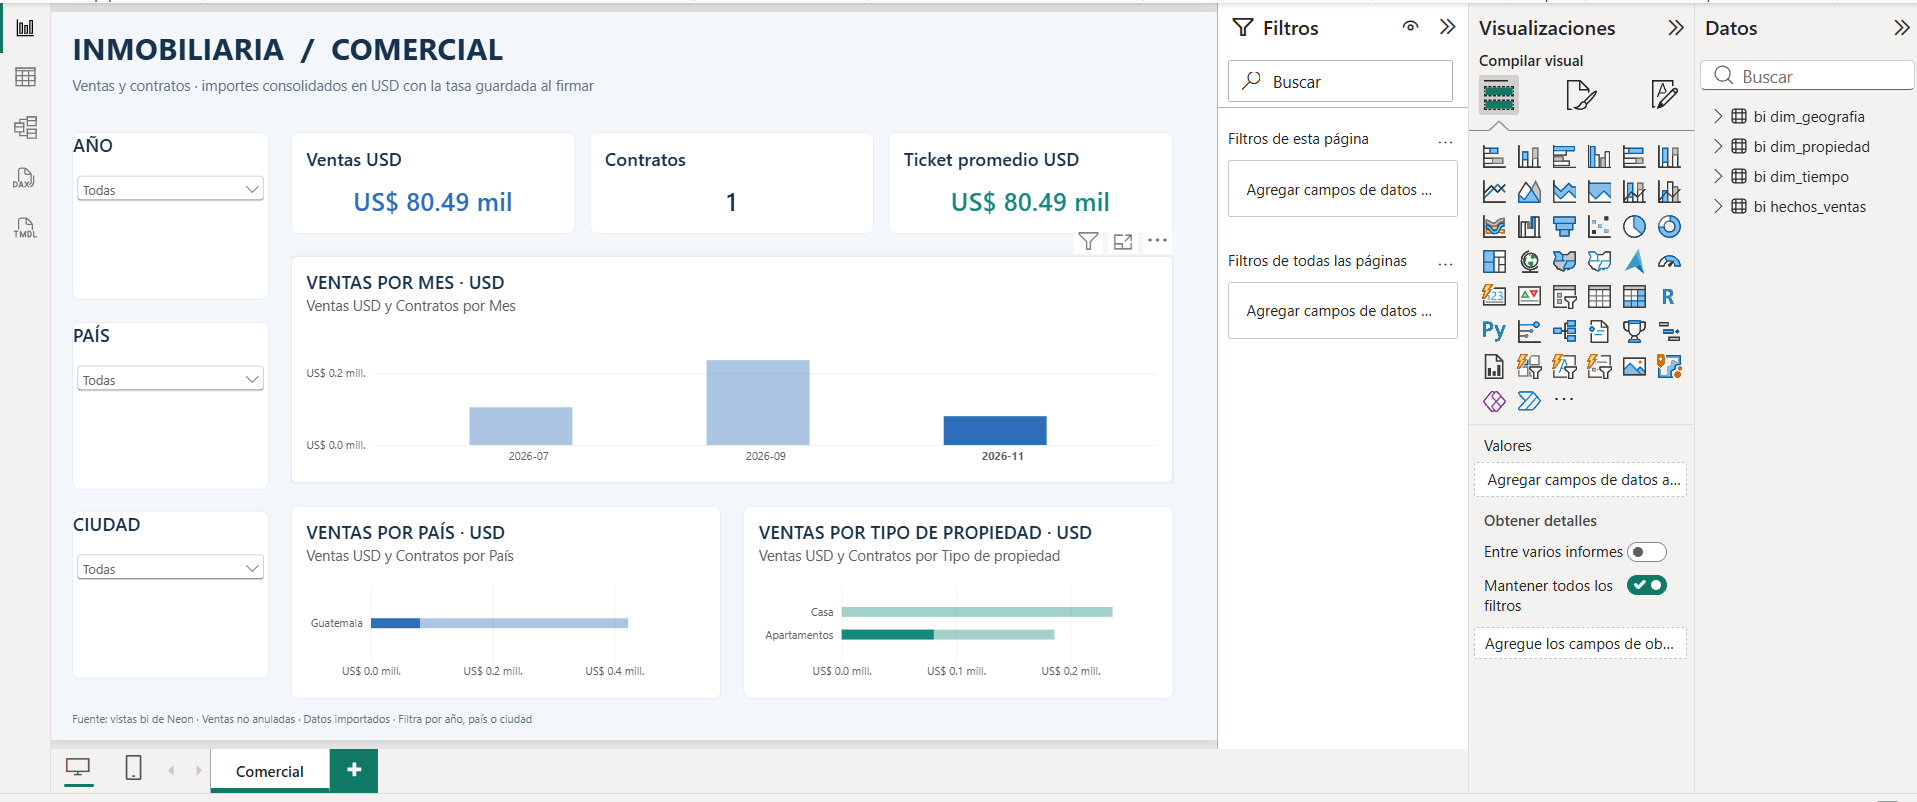

Layout of this report page (visuals, bound fields, positions):
{"tool":"powerbi","page":{"name":"Comercial","canvas":[1280,800],"ordinal":0},"visuals":[{"type":"textbox","box":[24,16,1120,50],"z":0},{"type":"textbox","box":[24,68,1216,40],"z":1000},{"type":"card","title":"Ventas USD","fields":{"Values":["bi hechos_ventas.Ventas USD"]},"box":[264,132,312,112],"z":2000},{"type":"card","title":"Contratos","fields":{"Values":["bi hechos_ventas.Contratos"]},"box":[592,132,312,112],"z":3000},{"type":"card","title":"Ticket promedio USD","fields":{"Values":["bi hechos_ventas.Ticket promedio USD"]},"box":[920,132,312,112],"z":4000},{"type":"clusteredColumnChart","title":"VENTAS POR MES · USD","fields":{"Category":["bi dim_tiempo.anio_mes"],"Y":["bi hechos_ventas.Ventas USD"]},"box":[263.5,255.2,968,250],"z":5000},{"type":"clusteredBarChart","title":"VENTAS POR PAÍS · USD","fields":{"Category":["bi dim_geografia.pais"],"Y":["bi hechos_ventas.Ventas USD"]},"box":[264,542,472,212],"z":6000},{"type":"clusteredBarChart","title":"VENTAS POR TIPO DE PROPIEDAD · USD","fields":{"Category":["bi dim_propiedad.tipo"],"Y":["bi hechos_ventas.Ventas USD"]},"box":[760,542,472,212],"z":7000},{"type":"slicer","title":"AÑO","fields":{"Values":["bi dim_tiempo.anio"]},"box":[24,132,216,184],"z":8000},{"type":"slicer","title":"PAÍS","fields":{"Values":["bi dim_geografia.pais"]},"box":[24,340,216,184],"z":9000},{"type":"slicer","title":"CIUDAD","fields":{"Values":["bi dim_geografia.ciudad"]},"box":[24,548,216,184],"z":10000},{"type":"textbox","box":[24,766,1216,26],"z":11000}]}

Visuals, with their boxes on the page's 1280x800 design canvas (x1, y1, x2, y2). These are canvas units, not pixel positions in the 1917x802 screenshot, which may show the page scaled, cropped or inside an application window:
textbox: [left=24, top=16, right=1144, bottom=66]
textbox: [left=24, top=68, right=1240, bottom=108]
"Ventas USD" card: [left=264, top=132, right=576, bottom=244]
"Contratos" card: [left=592, top=132, right=904, bottom=244]
"Ticket promedio USD" card: [left=920, top=132, right=1232, bottom=244]
"VENTAS POR MES · USD" clusteredColumnChart: [left=264, top=255, right=1232, bottom=505]
"VENTAS POR PAÍS · USD" clusteredBarChart: [left=264, top=542, right=736, bottom=754]
"VENTAS POR TIPO DE PROPIEDAD · USD" clusteredBarChart: [left=760, top=542, right=1232, bottom=754]
"AÑO" slicer: [left=24, top=132, right=240, bottom=316]
"PAÍS" slicer: [left=24, top=340, right=240, bottom=524]
"CIUDAD" slicer: [left=24, top=548, right=240, bottom=732]
textbox: [left=24, top=766, right=1240, bottom=792]
